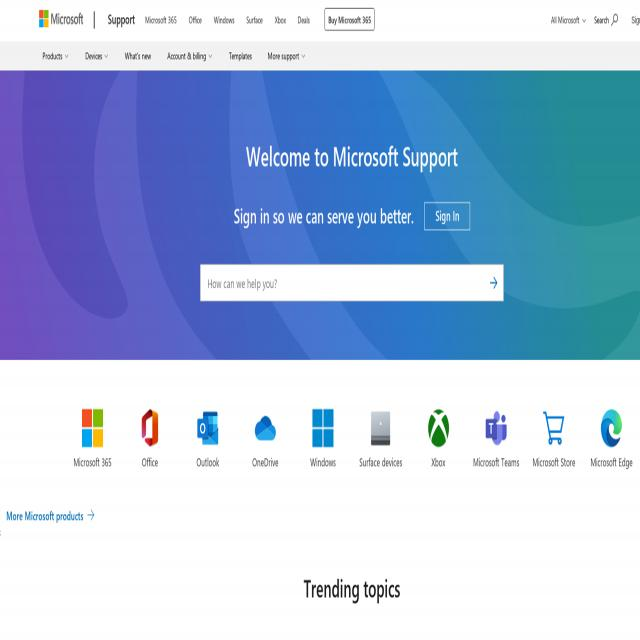button: (160, 41, 220, 71), (544, 1, 590, 39), (260, 41, 314, 71), (142, 1, 180, 36), (104, 1, 138, 40), (35, 41, 77, 71), (118, 41, 158, 71), (325, 8, 375, 31), (78, 41, 116, 71), (222, 41, 260, 71), (590, 2, 622, 35), (210, 1, 238, 36), (243, 1, 266, 36), (601, 409, 622, 447), (82, 409, 103, 447), (255, 409, 276, 447), (312, 409, 333, 447), (371, 409, 392, 447), (428, 409, 449, 447), (39, 10, 83, 28), (484, 264, 504, 302), (544, 409, 564, 447), (140, 409, 160, 447), (198, 409, 218, 447), (486, 409, 506, 447), (185, 1, 205, 36), (294, 1, 314, 36), (272, 1, 290, 36)
field: (200, 264, 504, 302)
